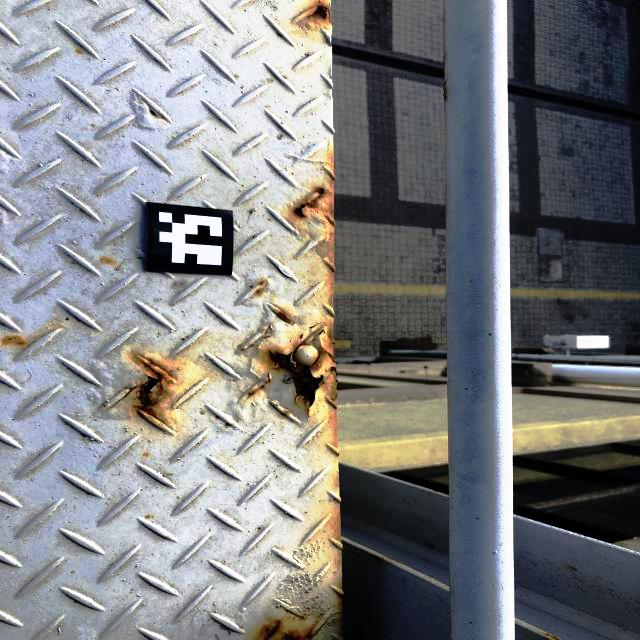Corrosion: (132, 353, 175, 419), (274, 353, 324, 406), (312, 338, 337, 395), (255, 617, 313, 640), (296, 186, 328, 219), (247, 371, 272, 399), (309, 0, 329, 23), (1, 336, 27, 348), (277, 309, 294, 323), (329, 177, 334, 222), (375, 557, 383, 562), (257, 289, 263, 295), (261, 281, 265, 285)
